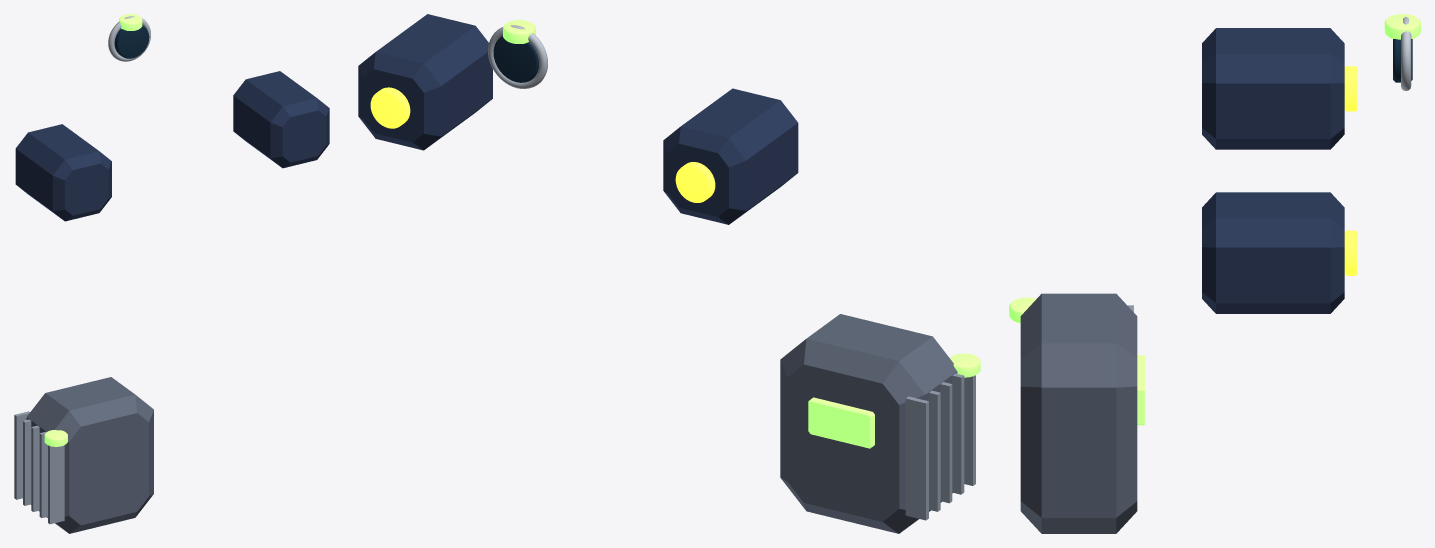
File: tower_detector_analysis_s6.glb
3 views of the same model, side by side, from view 1: azimuth 30°, elevation 25°; view 2: azimuth 150°, elevation 25°; view 3: azimuth 270°, elevation 25° (orthographic). The views are drawn at different scales.
Visible parts, largest first — view 1: detector_recorder, detector_mark_projector, detector_mark_projector_b, detector_recorder_fins, detector_analysis_lens, detector_analysis_lens_ring; view 2: detector_recorder, detector_mark_projector_b, detector_mark_projector, detector_recorder_fins, detector_recorder_face, detector_analysis_lens, detector_mark_lens, detector_mark_lens_b, detector_analysis_lens_ring; view 3: detector_recorder, detector_mark_projector_b, detector_mark_projector, detector_up_analysis_l3_stud, detector_analysis_lens_ring, detector_recorder_face, detector_mark_lens, detector_mark_lens_b.
Boxes of the visible parts, x1,y1,x2,y2 form: detector_recorder: (26,377,153,533); detector_mark_projector: (233,71,329,168); detector_mark_projector_b: (15,124,111,221); detector_recorder_fins: (14,411,64,524); detector_analysis_lens: (114,25,149,58); detector_analysis_lens_ring: (108,16,150,61); detector_recorder: (780,314,957,533); detector_mark_projector_b: (663,88,798,224); detector_mark_projector: (358,14,492,150); detector_recorder_fins: (905,373,975,520); detector_recorder_face: (808,397,874,448); detector_analysis_lens: (493,36,538,82); detector_mark_lens: (370,87,410,128); detector_mark_lens_b: (675,162,715,202); detector_analysis_lens_ring: (488,25,547,88); detector_recorder: (1020,293,1137,533); detector_mark_projector_b: (1202,28,1344,149); detector_mark_projector: (1202,192,1344,313); detector_up_analysis_l3_stud: (1384,14,1420,39); detector_analysis_lens_ring: (1401,17,1411,90); detector_recorder_face: (1137,355,1145,425); detector_mark_lens: (1344,230,1357,275); detector_mark_lens_b: (1344,66,1357,111).
Bounding box in the file's own units: 0.9496 × 1.02 × 0.636.
